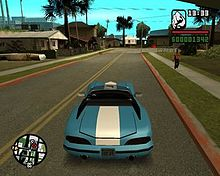car: (70, 79, 155, 164)
person: (171, 48, 182, 72)
